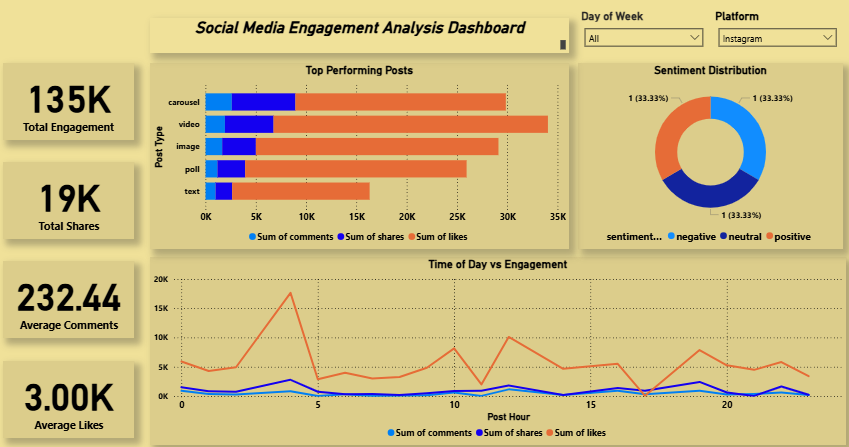

Layout of this report page (visuals, bound fields, positions):
{"tool":"powerbi","page":{"name":"Page 1","canvas":[1280,720],"ordinal":0},"visuals":[{"type":"card","fields":{"Values":["social_media_engagement1.Average Comments"]},"box":[6.8,442.7,196.4,115.1],"z":0},{"type":"card","fields":{"Values":["social_media_engagement1.Average Likes"]},"box":[6.8,590.9,196.4,115.1],"z":1000},{"type":"card","fields":{"Values":["social_media_engagement1.Total Shares"]},"box":[6.8,294.5,196.4,115.1],"z":2000},{"type":"lineChart","title":"Time of Day vs Engagement","fields":{"Category":["social_media_engagement1.Post_Hour"],"Y":["Sum(social_media_engagement1.comments)","Sum(social_media_engagement1.shares)","Sum(social_media_engagement1.likes)"]},"box":[226.9,436.8,1039.6,281.1],"z":3000},{"type":"donutChart","title":"Sentiment Distribution","fields":{"Y":["Count(social_media_engagement1.sentiment_score)"],"Category":["social_media_engagement1.sentiment_score"]},"box":[866.4,146.4,395.9,277.8],"z":4000},{"type":"barChart","title":"Top Performing Posts","fields":{"Category":["social_media_engagement1.post_type"],"Y":["Sum(social_media_engagement1.comments)","Sum(social_media_engagement1.shares)","Sum(social_media_engagement1.likes)"]},"box":[227.1,146.4,625.9,277.8],"z":5000},{"type":"slicer","title":"Platform","fields":{"Values":["social_media_engagement1.platform"]},"box":[1066.6,65.7,195.7,65.7],"z":6000},{"type":"slicer","title":"Day of Week","fields":{"Values":["social_media_engagement1.Day_of_Week"]},"box":[866.4,65.7,197.2,65.7],"z":7000},{"type":"card","fields":{"Values":["social_media_engagement1.Total Engagement"]},"box":[7.5,146.4,195.7,115],"z":8000},{"type":"textbox","title":"Social Media Engagement Analysis Dashboard","box":[227.1,79.2,625.9,52.3],"z":9000}]}

Visuals, with their boxes on the page's 1280x720 design canvas (x1, y1, x2, y2). These are canvas units, not pixel positions in the 849x447 screenshot, which may show the page scaled, cropped or inside an application window:
card - social_media_engagement1.Average Comments: (left=7, top=443, right=203, bottom=558)
card - social_media_engagement1.Average Likes: (left=7, top=591, right=203, bottom=706)
card - social_media_engagement1.Total Shares: (left=7, top=294, right=203, bottom=410)
"Time of Day vs Engagement" lineChart: (left=227, top=437, right=1266, bottom=718)
"Sentiment Distribution" donutChart: (left=866, top=146, right=1262, bottom=424)
"Top Performing Posts" barChart: (left=227, top=146, right=853, bottom=424)
"Platform" slicer: (left=1067, top=66, right=1262, bottom=131)
"Day of Week" slicer: (left=866, top=66, right=1064, bottom=131)
card - social_media_engagement1.Total Engagement: (left=8, top=146, right=203, bottom=261)
"Social Media Engagement Analysis Dashboard" textbox: (left=227, top=79, right=853, bottom=132)
